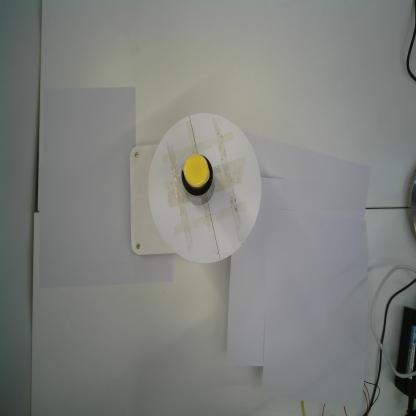Seasoner: (180, 153, 216, 206)
